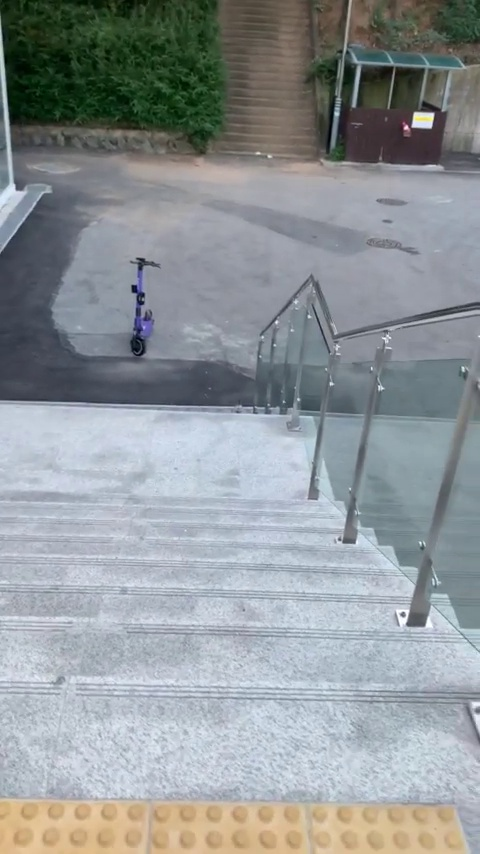beam: (120, 246, 165, 367)
